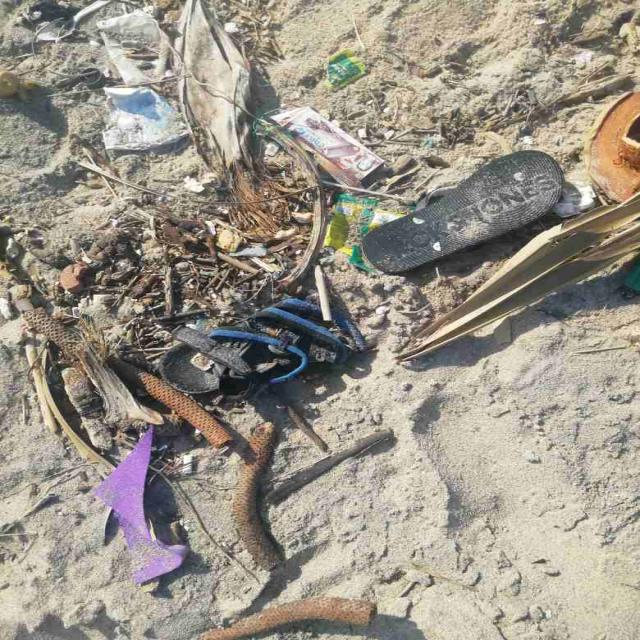dep: (362, 150, 565, 274), (157, 298, 367, 394)
giay: (270, 108, 383, 185)
giay_goi: (324, 193, 403, 269), (328, 48, 367, 89)
rac_huu_co: (64, 4, 327, 323), (21, 311, 280, 570), (397, 193, 640, 362)
